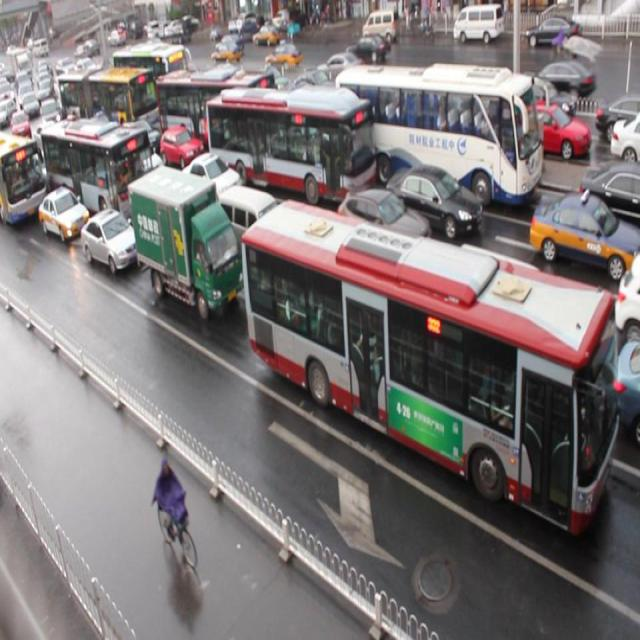bus: (127, 163, 239, 318)
car: (527, 191, 640, 278), (300, 228, 404, 321), (382, 162, 481, 238), (337, 183, 429, 260), (576, 160, 640, 238), (141, 185, 208, 250), (80, 206, 138, 272), (181, 152, 243, 211), (38, 181, 89, 240), (612, 251, 640, 351), (115, 138, 163, 186), (158, 124, 202, 169), (116, 123, 160, 164)
truck: (440, 240, 568, 386), (216, 186, 292, 276)
van: (243, 196, 612, 531), (334, 66, 541, 204), (206, 84, 375, 204), (38, 121, 156, 232), (154, 70, 274, 160), (58, 71, 158, 132), (1, 129, 46, 224)
